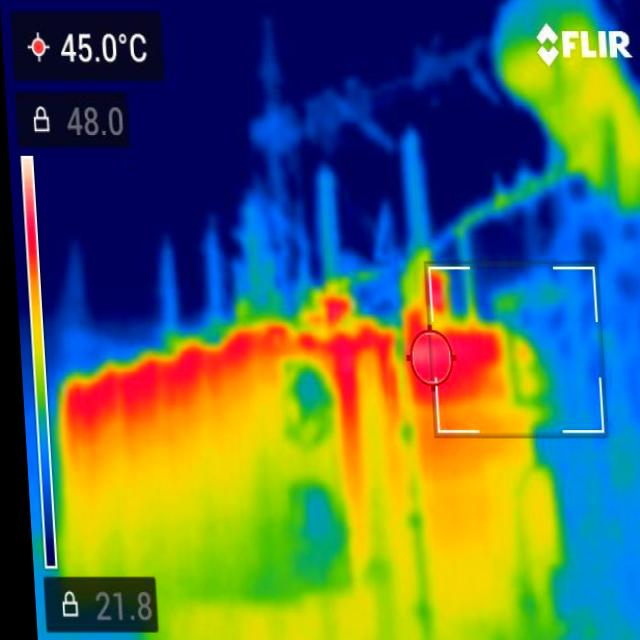Faulty: (44, 282, 416, 430), (375, 256, 524, 411)
